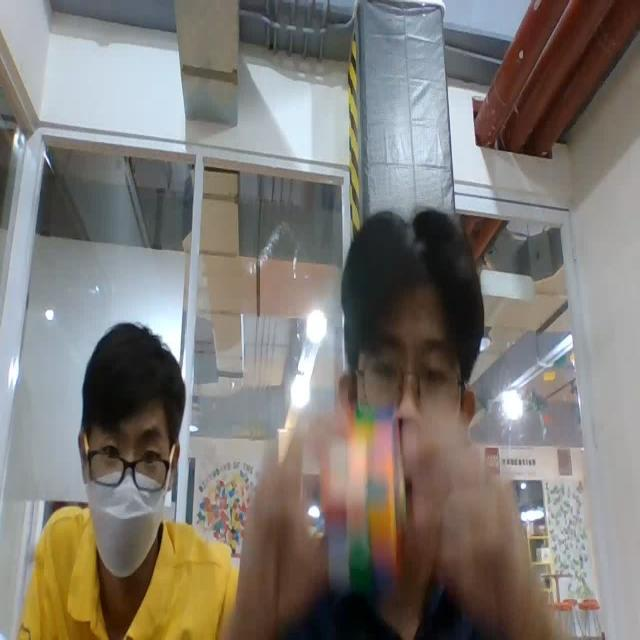Rub: (311, 408, 403, 582)
